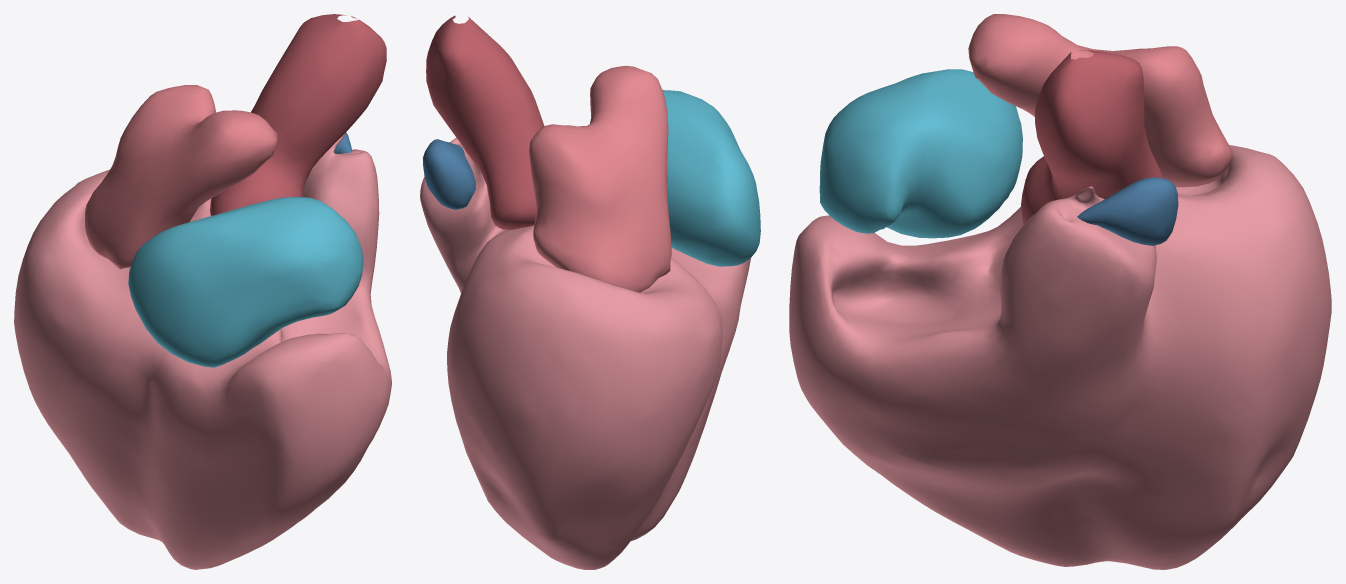
Rendered from frame_27.glb.
3 renders of one model, left to right at view 1: azimuth 30°, elevation 25°; view 2: azimuth 150°, elevation 25°; view 3: azimuth 270°, elevation 25°, orthographic. The views are drawn at different scales.
Visible parts, largest first — view 1: Renderer Node; view 2: Renderer Node; view 3: Renderer Node.
Boxes of the visible parts, left/top/right/bottom form: Renderer Node: left=14, top=14, right=391, bottom=569; Renderer Node: left=420, top=15, right=760, bottom=569; Renderer Node: left=789, top=14, right=1331, bottom=569.
Bounding box in the file's own units: 106 × 162 × 131.
